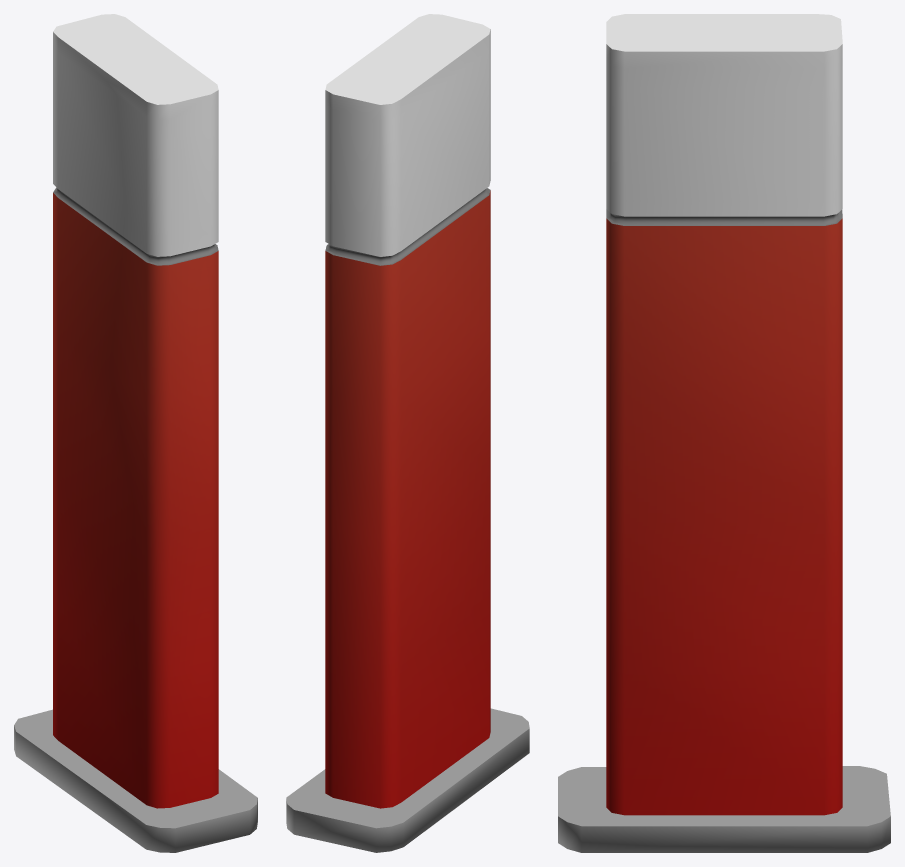
The model's file is PomBanner.fbx.
3 views of the same model, side by side, from view 1: azimuth 30°, elevation 25°; view 2: azimuth 150°, elevation 25°; view 3: azimuth 270°, elevation 25° (orthographic). The views are drawn at different scales.
Visible parts, largest first — view 1: PomSign_LOD0; view 2: PomSign_LOD0; view 3: PomSign_LOD0.
Boxes of the visible parts, x1,y1,x2,y2 form: PomSign_LOD0: (14, 14, 257, 852); PomSign_LOD0: (286, 14, 529, 852); PomSign_LOD0: (558, 14, 890, 852).
Size of what is drawn, in the model's own units: 111 by 681 by 260.
